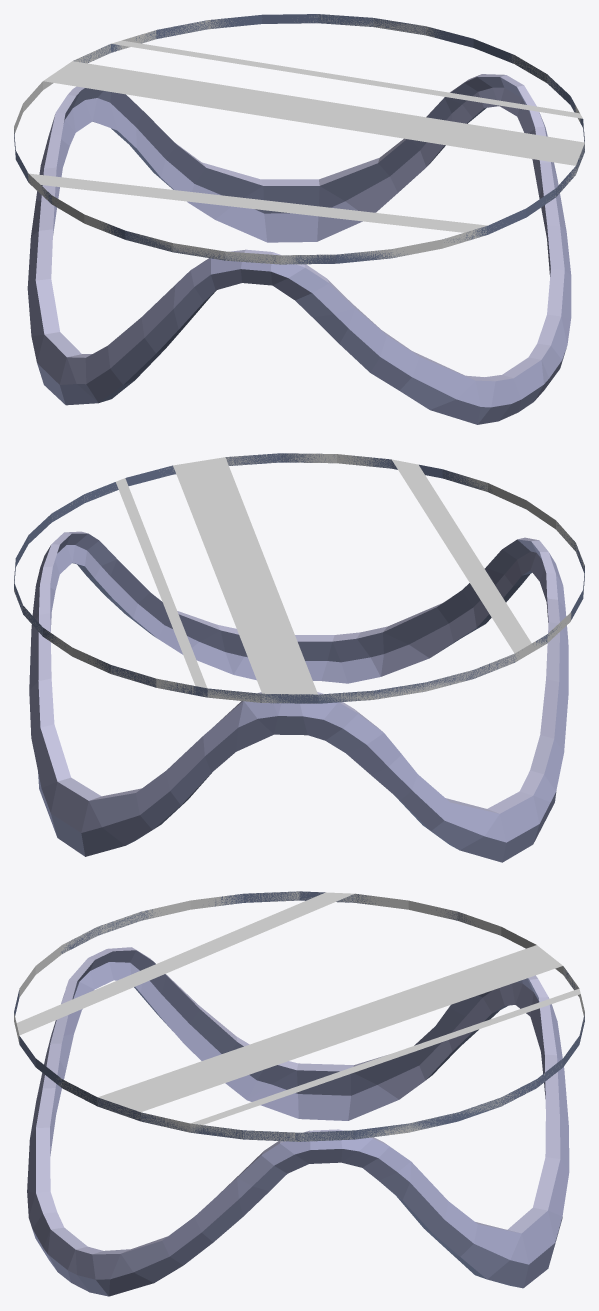
File: Prop_Table_Small.fbx
3 renders of one model, top to bottom at view 1: azimuth 30°, elevation 25°; view 2: azimuth 150°, elevation 25°; view 3: azimuth 270°, elevation 25°, orthographic.
Visible parts, largest first — view 1: Table_small; view 2: Table_small; view 3: Table_small.
Part boxes in pixels (bbox=[...]): Table_small: bbox=[14, 14, 584, 424]; Table_small: bbox=[14, 453, 584, 862]; Table_small: bbox=[14, 891, 584, 1296].
Size of the model in its own units: 554 by 229 by 554.
